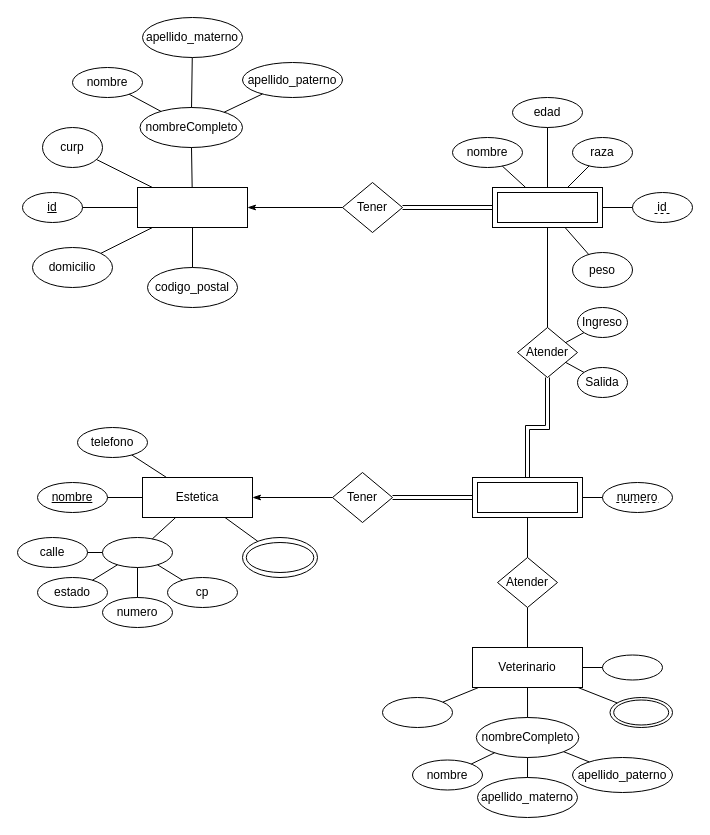
The diagram is 710 pixels wide and 835 high, and some of its shapes have lost their labels. Here are the shapes that lost their labels. From the top down, the box of each, then its label:
(136, 186, 248, 228): Ciente
(492, 186, 602, 228): Mascota
(472, 476, 582, 518): Consultorio
(102, 536, 172, 568): direccion
(242, 536, 318, 578): horario
(602, 654, 662, 680): rfc
(382, 696, 452, 728): correo
(609, 696, 672, 728): turno
